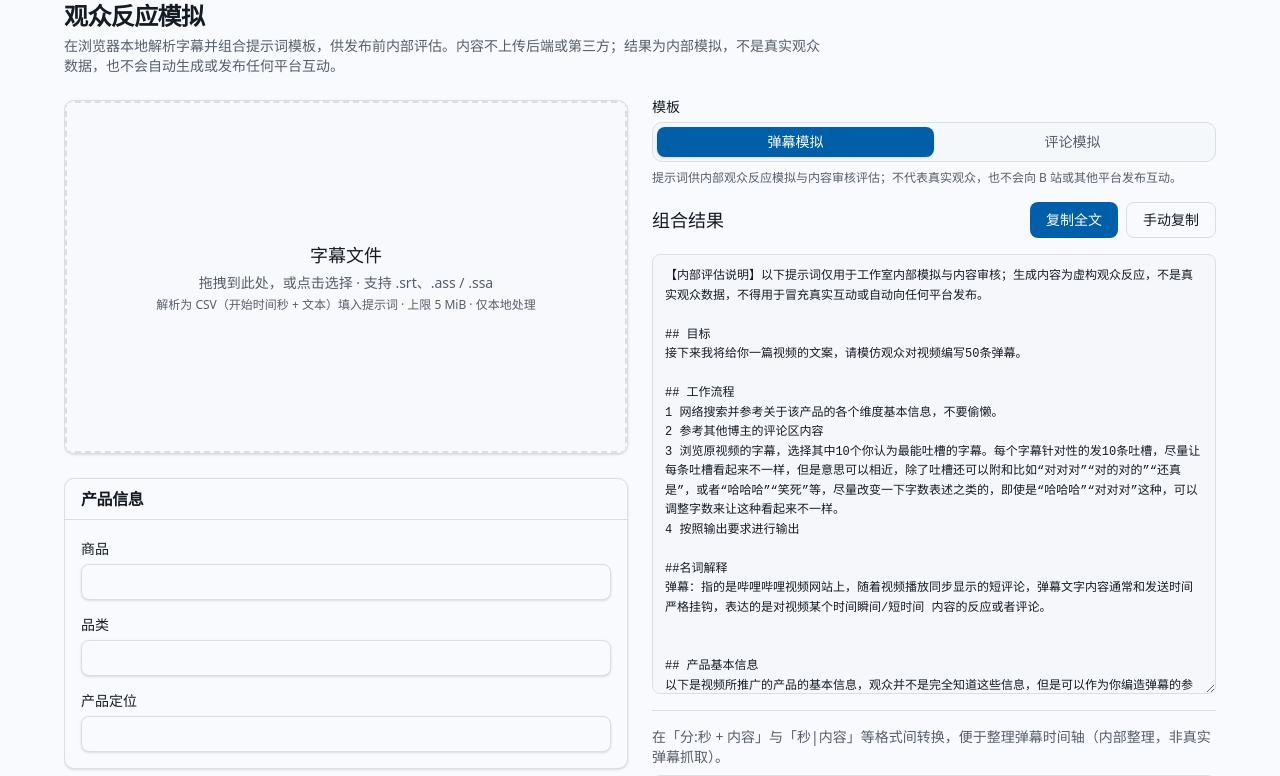
Test: AudienceReactionPage › copy failure opens manual copy entry
The image size is (1280, 776).
Click the button "复制全文": (1074, 220) [1030,202,1118,238]
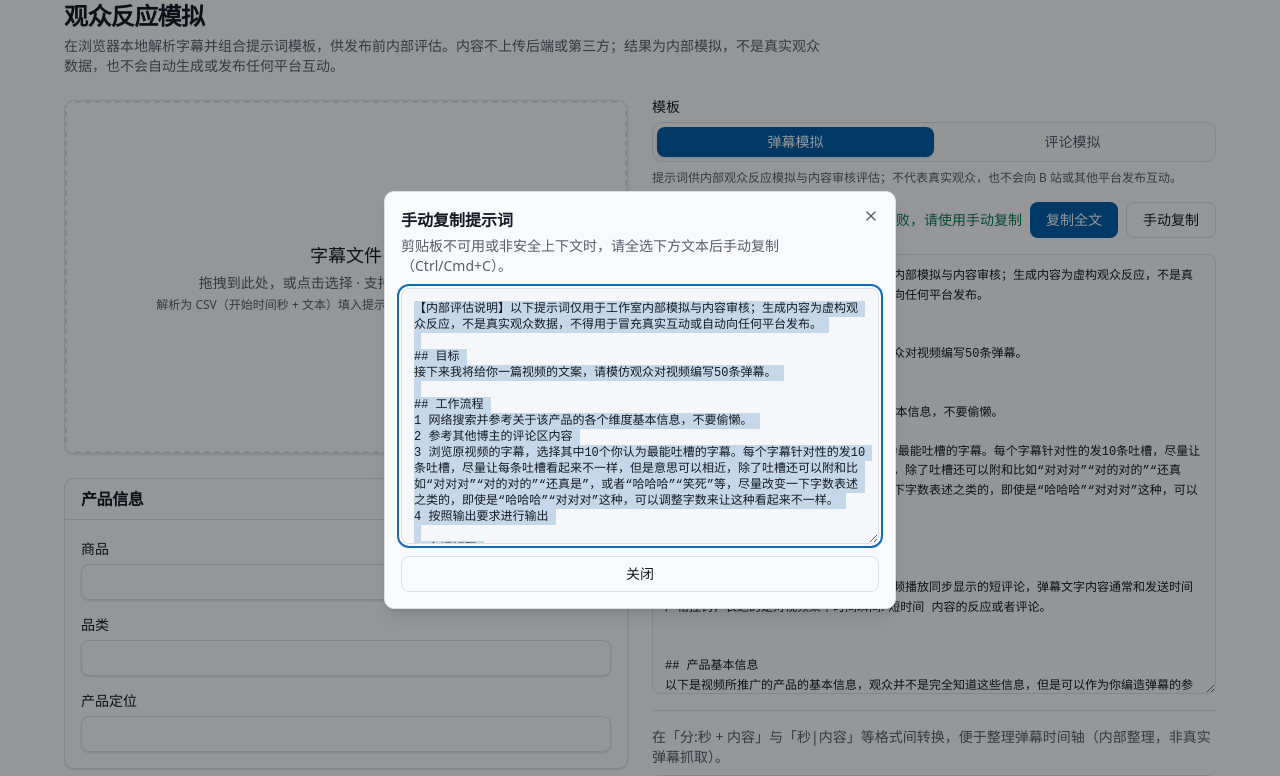
Expected: the text "复制失败，请使用手动复制" is shown, [854,210,1022,230]
Expected: the heading "手动复制提示词" is shown, [401,209,513,231]
